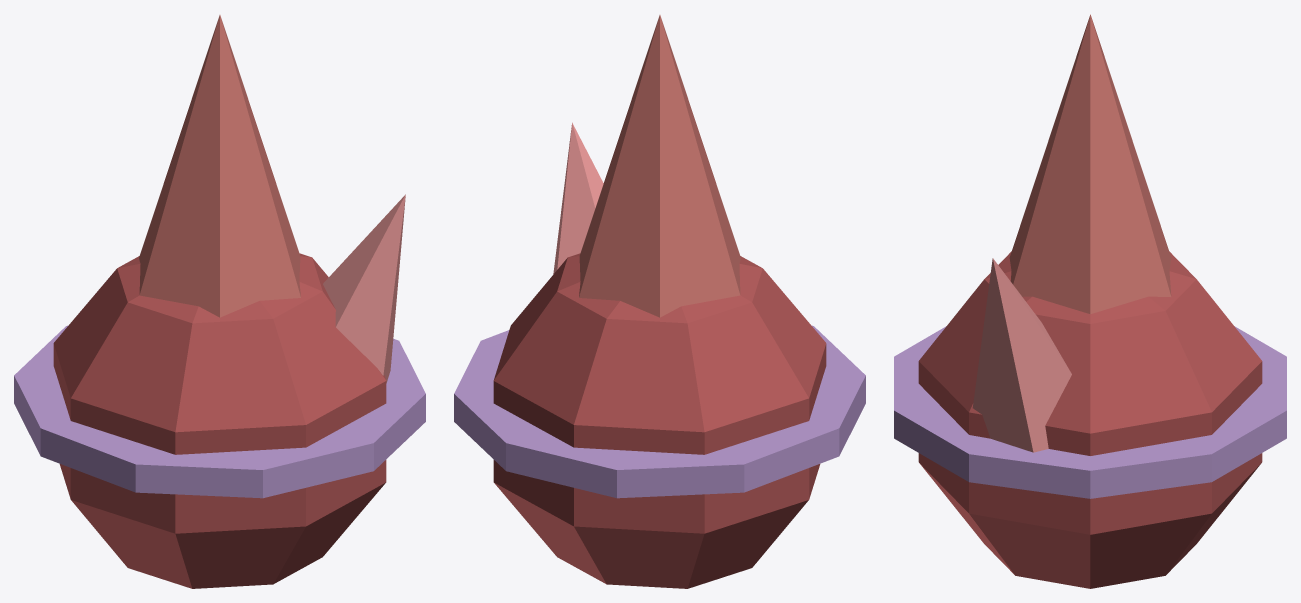
The model's file is pyro_umb_item_flat.glb.
3 views of the same model, side by side, from view 1: azimuth 30°, elevation 25°; view 2: azimuth 150°, elevation 25°; view 3: azimuth 270°, elevation 25° (orthographic).
Parts seen in each view (by area): view 1: DarkCore, CrimsonFlame, ShadowRing, FlameWisp; view 2: DarkCore, CrimsonFlame, ShadowRing, FlameWisp; view 3: DarkCore, CrimsonFlame, ShadowRing, FlameWisp.
Boxes of the visible parts, <box> form: DarkCore: <box>53,253,386,588</box>; CrimsonFlame: <box>139,15,300,317</box>; ShadowRing: <box>14,325,425,498</box>; FlameWisp: <box>323,194,405,383</box>; DarkCore: <box>493,253,826,588</box>; CrimsonFlame: <box>579,15,740,317</box>; ShadowRing: <box>454,325,865,498</box>; FlameWisp: <box>553,122,603,273</box>; DarkCore: <box>918,251,1262,588</box>; CrimsonFlame: <box>1009,14,1171,314</box>; ShadowRing: <box>894,326,1286,498</box>; FlameWisp: <box>972,258,1071,452</box>.
Bounding box in the file's own units: 0.04 × 0.06 × 0.038.
